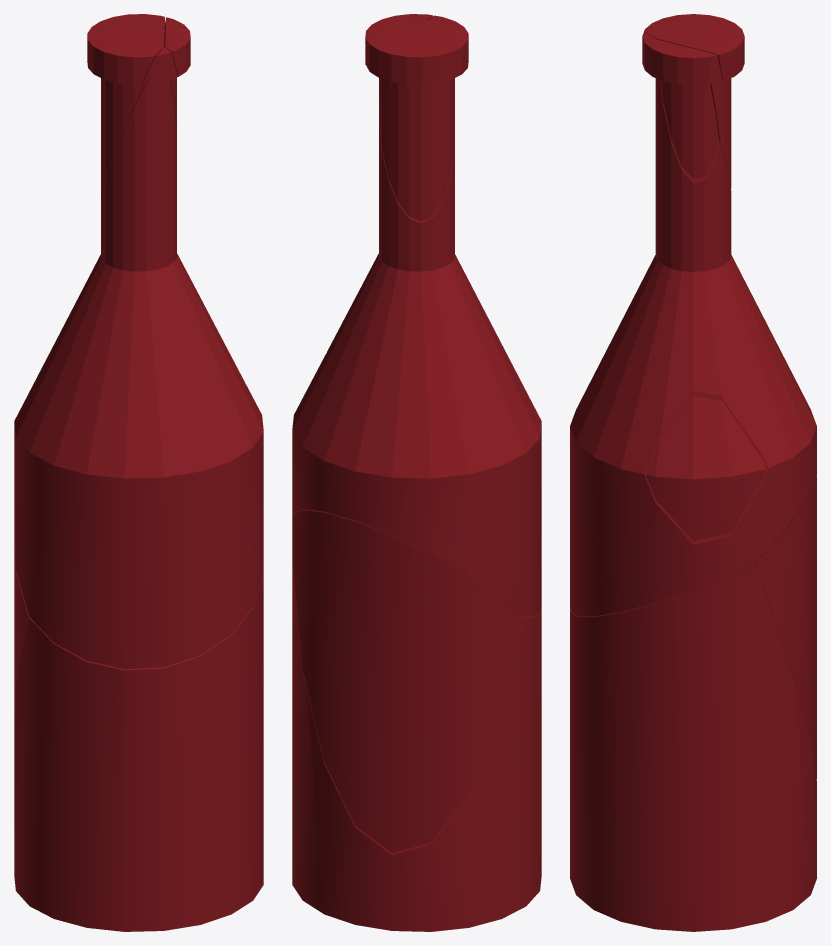
File: shatteredBottle.fbx
3 views of the same model, side by side, from view 1: azimuth 30°, elevation 25°; view 2: azimuth 150°, elevation 25°; view 3: azimuth 270°, elevation 25° (orthographic).
Parts seen in each view (by area): view 1: pCylinder13_cell, pCylinder13_cell.001, pCylinder13_cell.003, pCylinder13_cell.005, pCylinder13_cell.004; view 2: pCylinder13_cell, pCylinder13_cell.004, pCylinder13_cell.001, pCylinder13_cell.003, pCylinder13_cell.005; view 3: pCylinder13_cell.001, pCylinder13_cell, pCylinder13_cell.002, pCylinder13_cell.004, pCylinder13_cell.005, pCylinder13_cell.003.
Part boxes in pixels (left/top/right/bottom): pCylinder13_cell: left=14, top=47, right=263, bottom=669; pCylinder13_cell.001: left=14, top=575, right=263, bottom=931; pCylinder13_cell.003: left=87, top=14, right=164, bottom=197; pCylinder13_cell.005: left=164, top=17, right=190, bottom=128; pCylinder13_cell.004: left=14, top=532, right=28, bottom=732; pCylinder13_cell: left=292, top=15, right=541, bottom=617; pCylinder13_cell.004: left=292, top=510, right=523, bottom=852; pCylinder13_cell.001: left=292, top=560, right=541, bottom=931; pCylinder13_cell.003: left=365, top=19, right=468, bottom=221; pCylinder13_cell.005: left=365, top=14, right=432, bottom=148; pCylinder13_cell.001: left=570, top=563, right=816, bottom=931; pCylinder13_cell: left=570, top=32, right=816, bottom=616; pCylinder13_cell.002: left=645, top=396, right=765, bottom=541; pCylinder13_cell.004: left=754, top=476, right=816, bottom=779; pCylinder13_cell.005: left=644, top=39, right=722, bottom=179; pCylinder13_cell.003: left=644, top=14, right=744, bottom=188.
Bounding box in the file's own units: 49.1 × 181 × 48.08.
